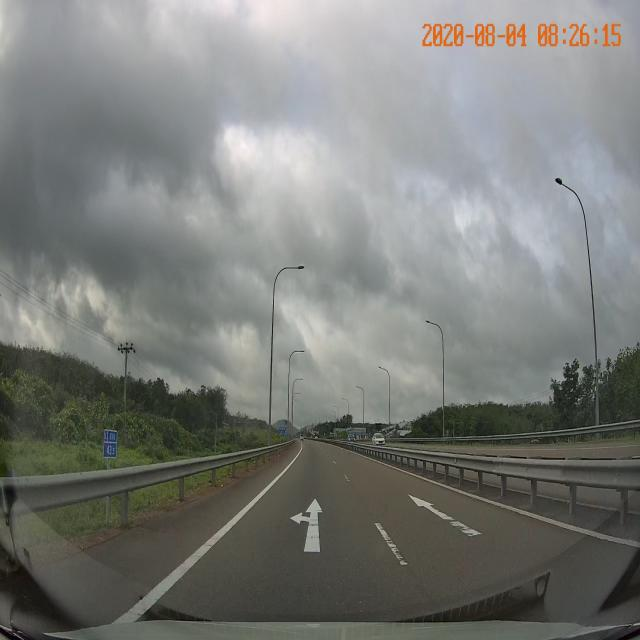Strelka vpered: (404, 492, 485, 538)
Strelka vpered - vlevo: (288, 496, 324, 554)
